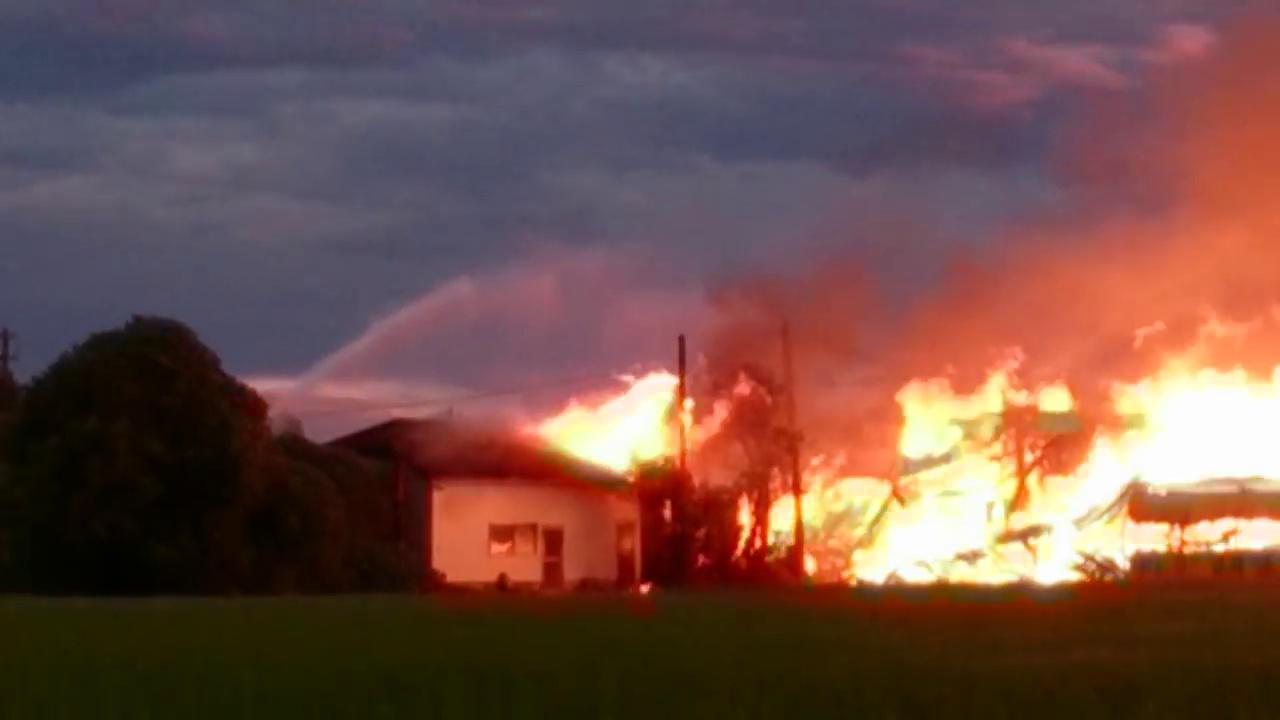Fire: (731, 317, 1277, 589), (537, 360, 736, 472)
